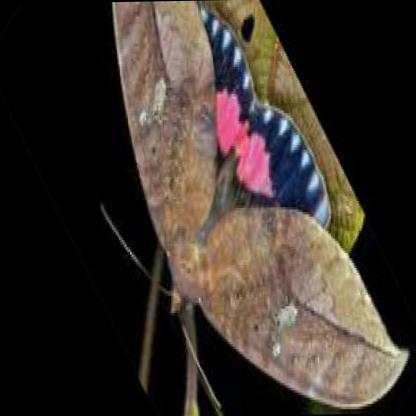fruit sucking moth: (114, 1, 409, 405)
